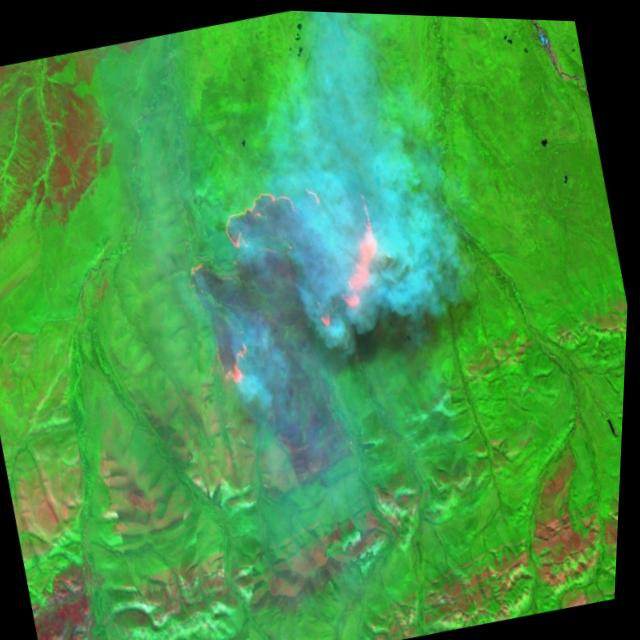fire: (163, 149, 414, 398)
